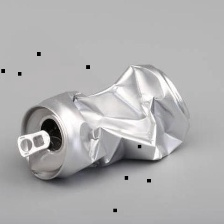can: (11, 59, 204, 191)
